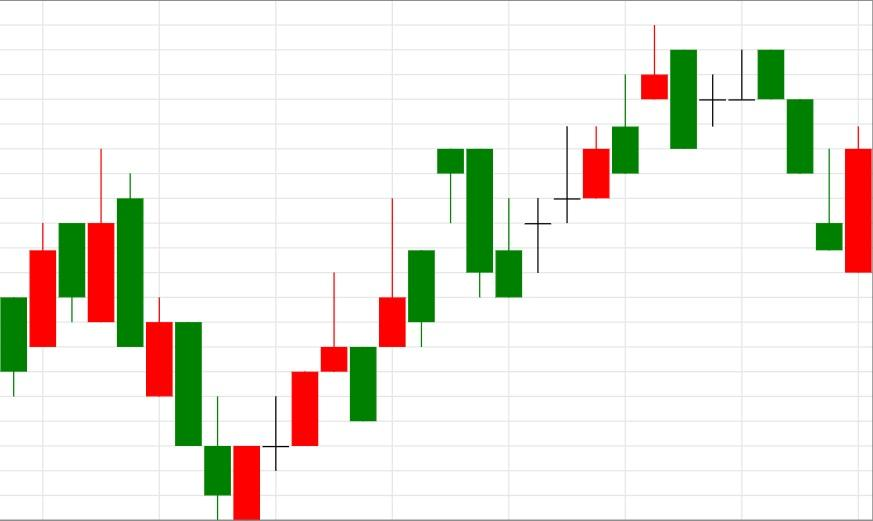bullish_engulfing_rise: (758, 50, 873, 272)
hanging_man_fall: (204, 148, 465, 520)
